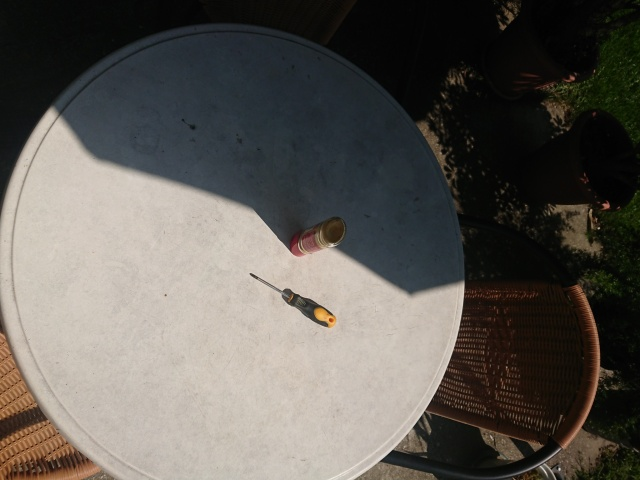Kotanyi Curry Spices Mix 70g: (288, 214, 348, 258)
